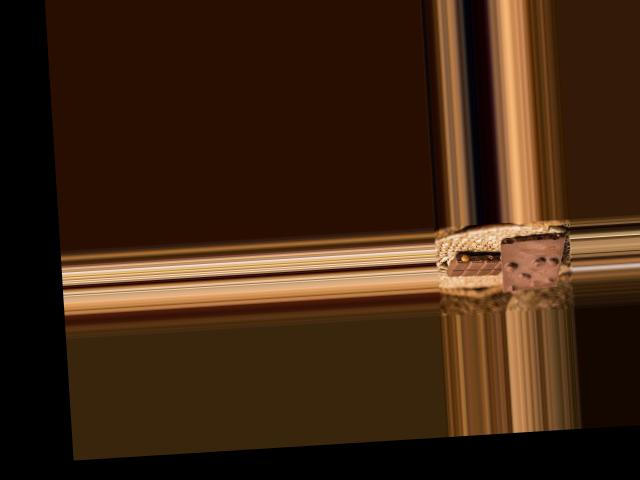chocolate: (495, 233, 569, 293)
